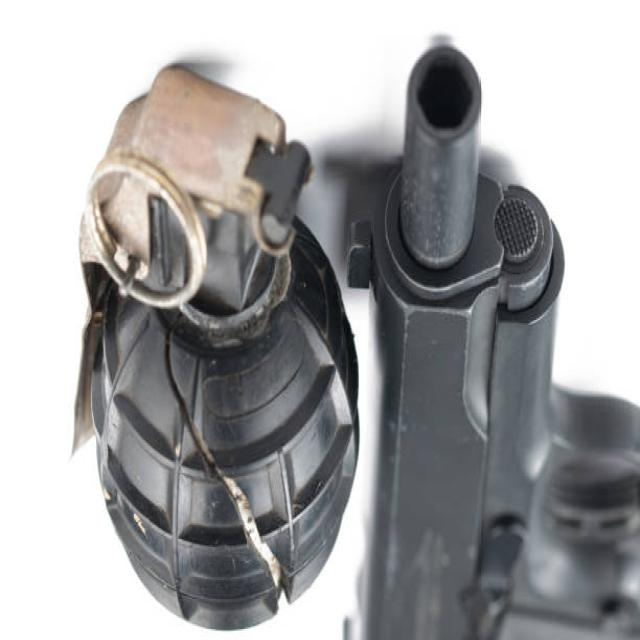grenade: (65, 52, 369, 640)
